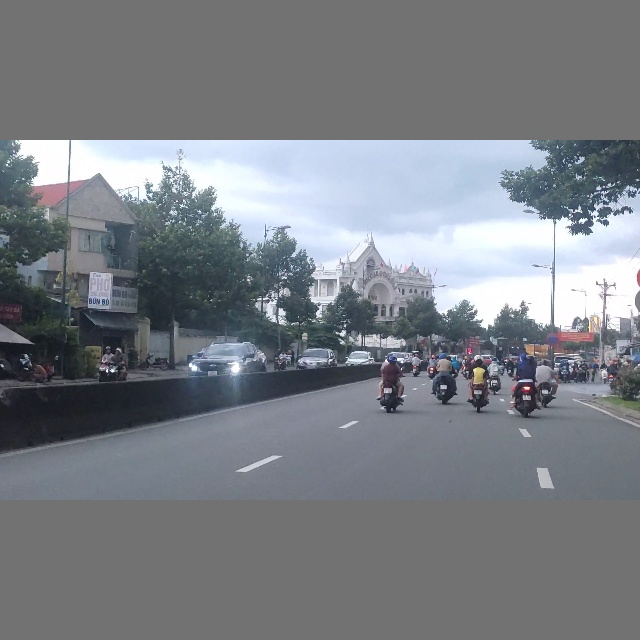P.130: (546, 333, 559, 346)
